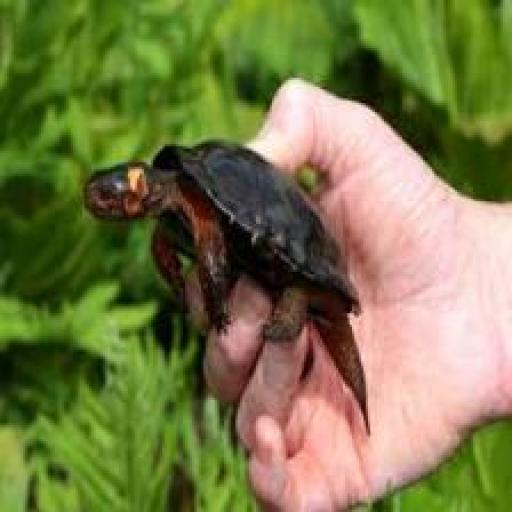turtle: (82, 134, 404, 422)
